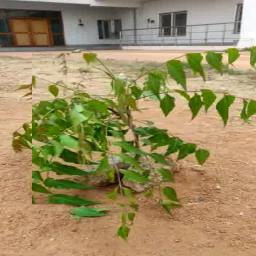Azadiractha Indica: (32, 53, 229, 205)
